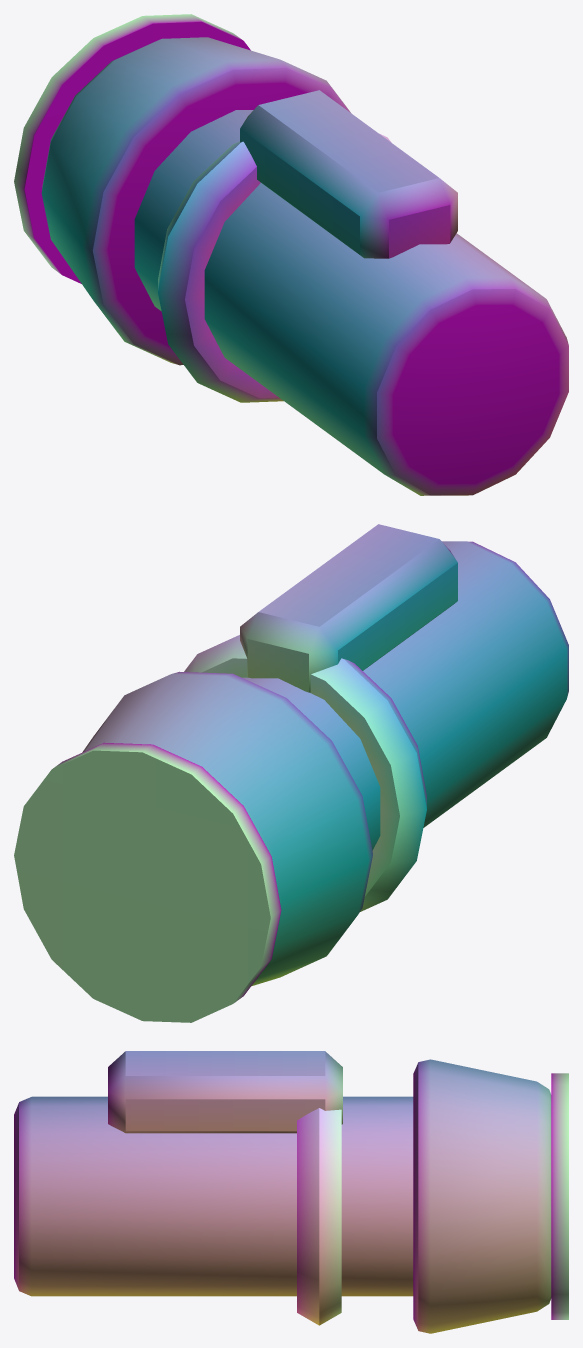
The model's file is att_torch.glb.
The picture shows the model from 3 angles, top to bottom: view 1: azimuth 30°, elevation 25°; view 2: azimuth 150°, elevation 25°; view 3: azimuth 270°, elevation 25°; orthographic projection. The views are drawn at different scales.
Visible parts, largest first — view 1: att_torch_mesh; view 2: att_torch_mesh; view 3: att_torch_mesh.
Part boxes in pixels (x1,y1,x2,y2): att_torch_mesh: (14, 14, 568, 495); att_torch_mesh: (14, 524, 568, 1022); att_torch_mesh: (14, 1051, 568, 1333).
Bounding box in the file's own units: 0.0234 × 0.0242 × 0.0472.
